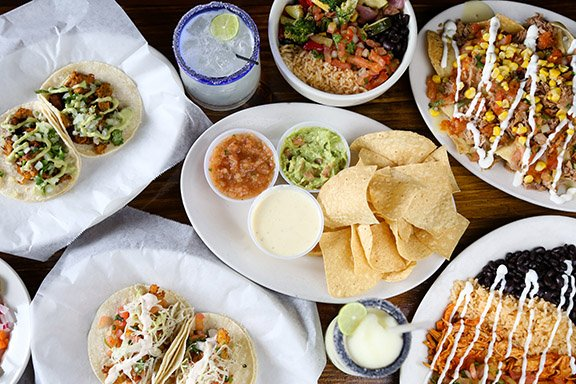curry: (280, 17, 315, 44)
soup: (366, 157, 470, 263), (0, 99, 81, 202)
sushi: (410, 0, 576, 215), (268, 0, 418, 107), (172, 0, 262, 110), (323, 300, 411, 379), (171, 311, 257, 383), (246, 184, 324, 260), (0, 256, 33, 381)
